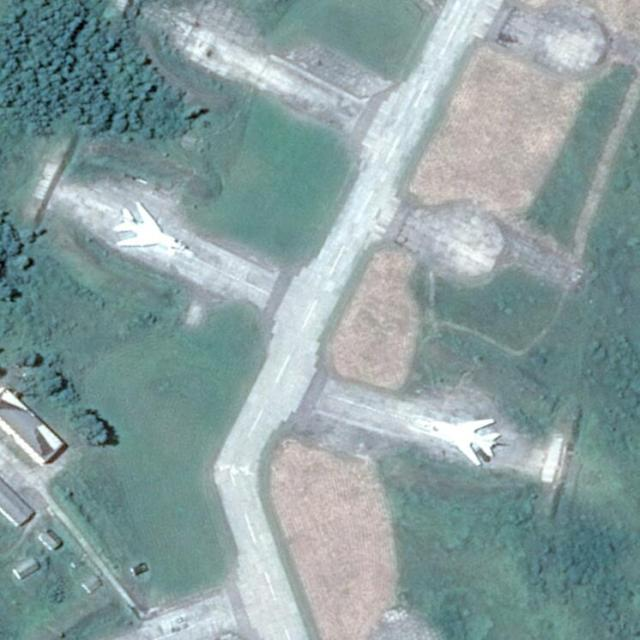fighter jet: (112, 199, 172, 258), (437, 418, 505, 469)
